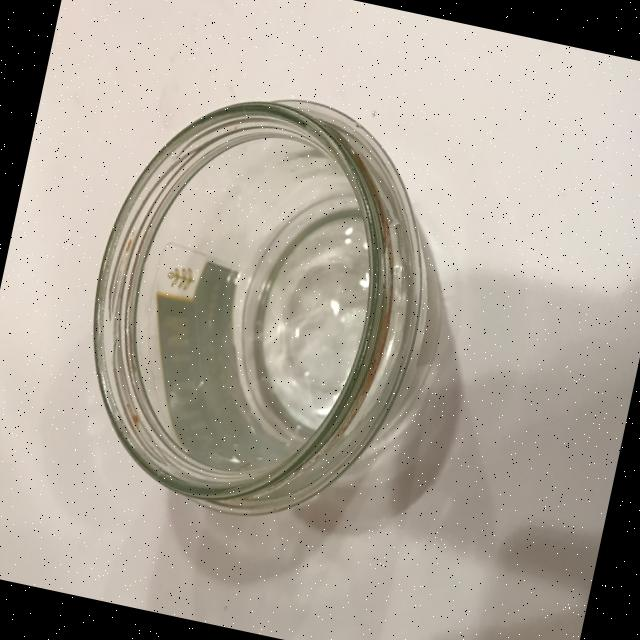glass: (55, 64, 472, 546)
